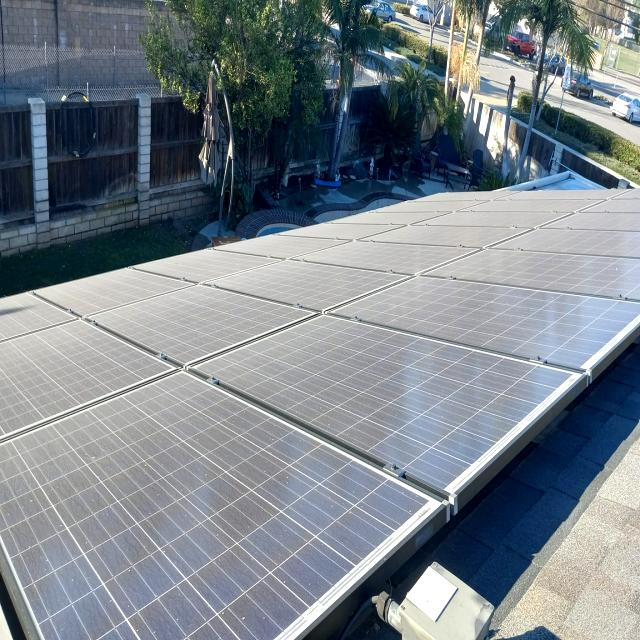dust: (15, 437, 276, 626), (298, 334, 468, 442), (448, 208, 639, 286), (99, 272, 210, 359), (460, 296, 608, 356), (0, 310, 85, 412), (370, 214, 442, 319), (287, 439, 325, 602), (254, 245, 360, 301), (148, 386, 212, 422)
